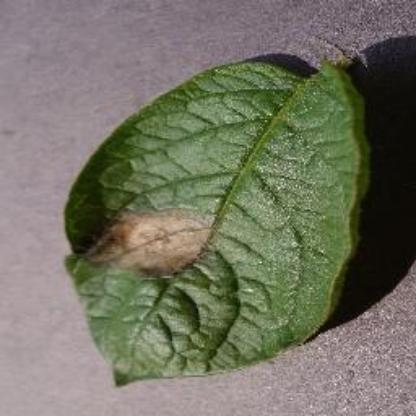Late-Blight: (55, 45, 375, 387)
